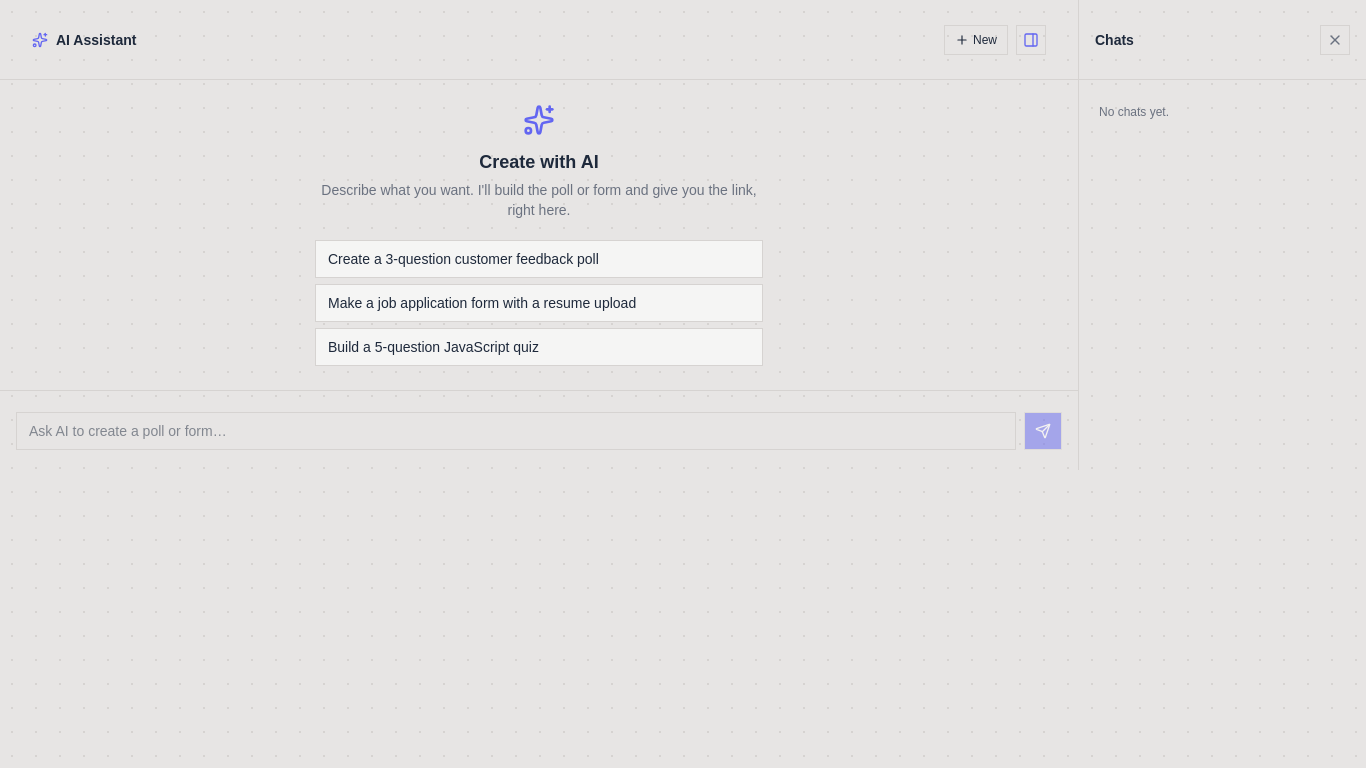
Test case: ChatPage (dashboard assistant) › shows a created share-link card after the AI creates a poll
The image size is (1366, 768).
Type "make a feedback poll" into the text box with placeholder "Ask AI to create a poll or form…" at {"x": 516, "y": 430}, box [16,412,1016,450]
Then press Enter
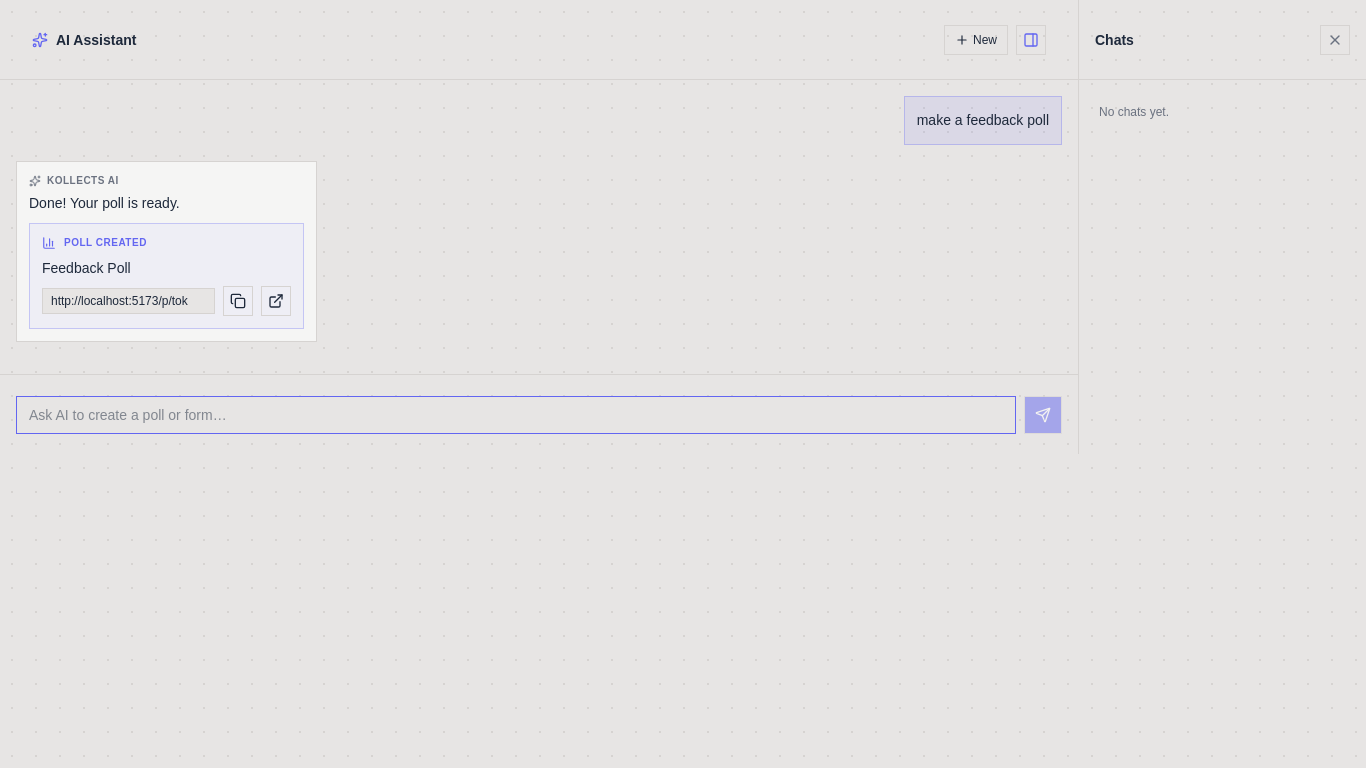
Now the text "Done! Your poll is ready." is shown, box [29,195,180,211]
Now the text "Feedback Poll" is shown, box [42,260,131,276]
Now the field showing "http://localhost:5173/p/tok" is shown, box [42,288,215,314]
